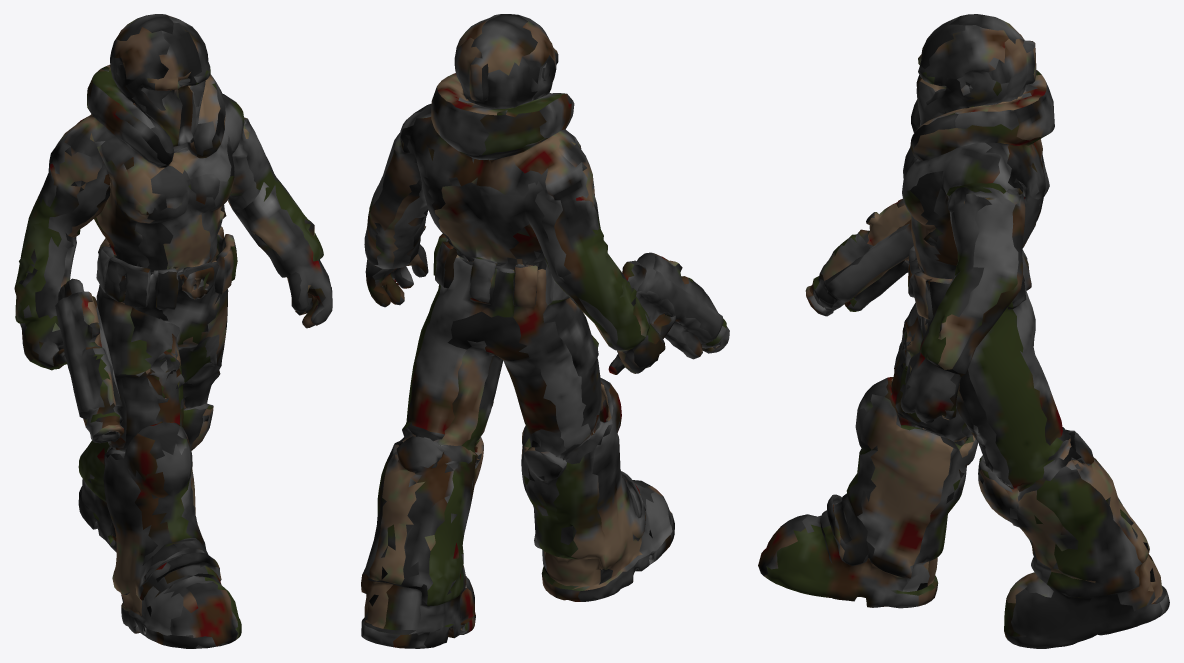
File: POSSB1.obj
3 views of the same model, side by side, from view 1: azimuth 30°, elevation 25°; view 2: azimuth 150°, elevation 25°; view 3: azimuth 270°, elevation 25° (orthographic). The views are drawn at different scales.
Bounding box in the file's own units: 0.5373 × 1 × 0.6259.
1 material, 1 textured.
